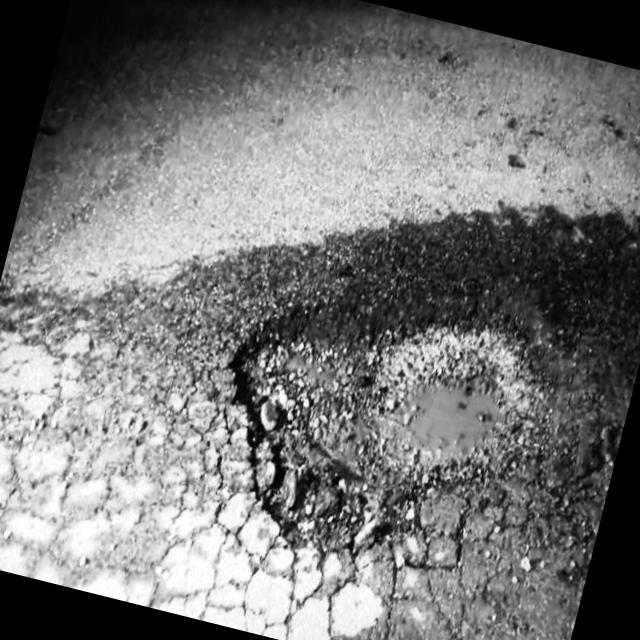Pothole: (207, 279, 540, 560)
